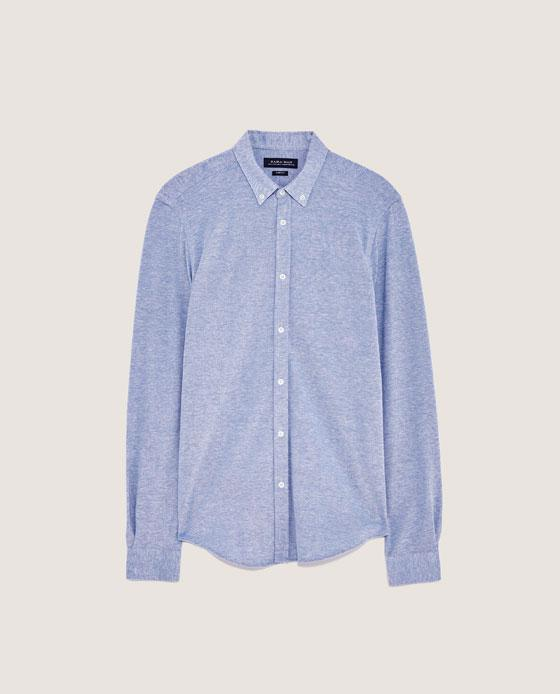teeshirt: (118, 119, 469, 606)
